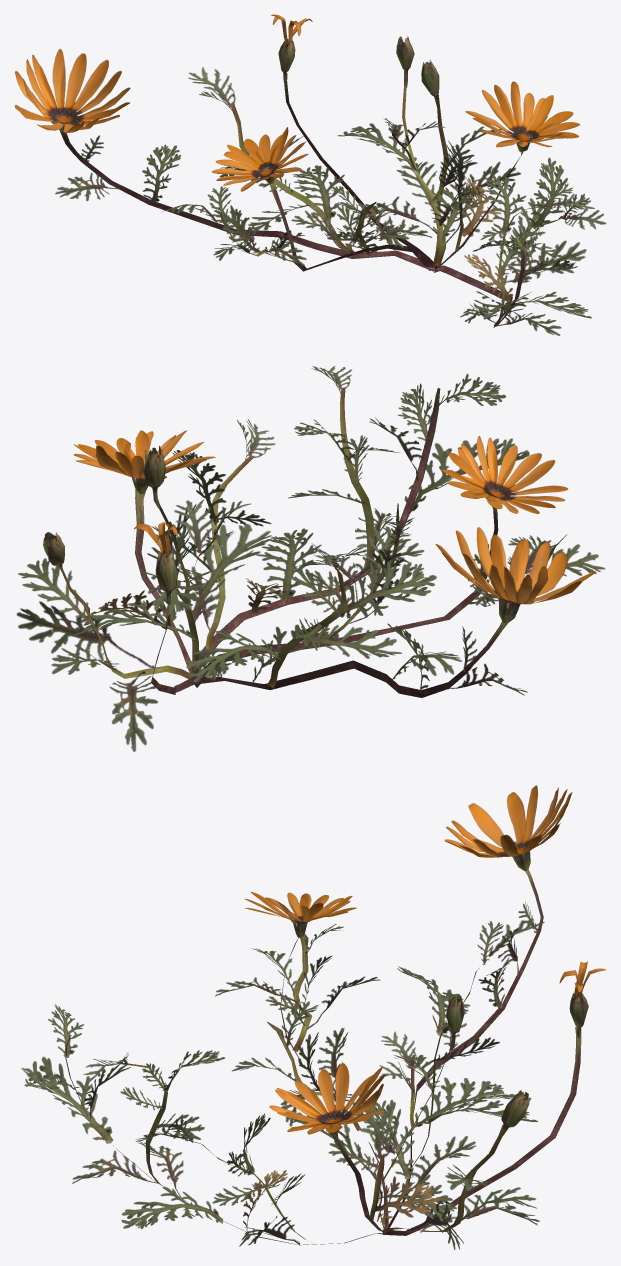
The model's file is wildflower_orange.glb.
3 renders of one model, top to bottom at view 1: azimuth 30°, elevation 25°; view 2: azimuth 150°, elevation 25°; view 3: azimuth 270°, elevation 25°, orthographic. The views are drawn at different scales.
Visible parts, largest first — view 1: mx_wildflower_orange; view 2: mx_wildflower_orange; view 3: mx_wildflower_orange.
Part boxes in pixels (box(x1,y1,x2,y2)): mx_wildflower_orange: box(15, 14, 606, 335); mx_wildflower_orange: box(16, 366, 605, 751); mx_wildflower_orange: box(21, 785, 606, 1249).
Size of the model in its own units: 0.2772 by 0.131 by 0.2598.
1 material, 1 textured.
